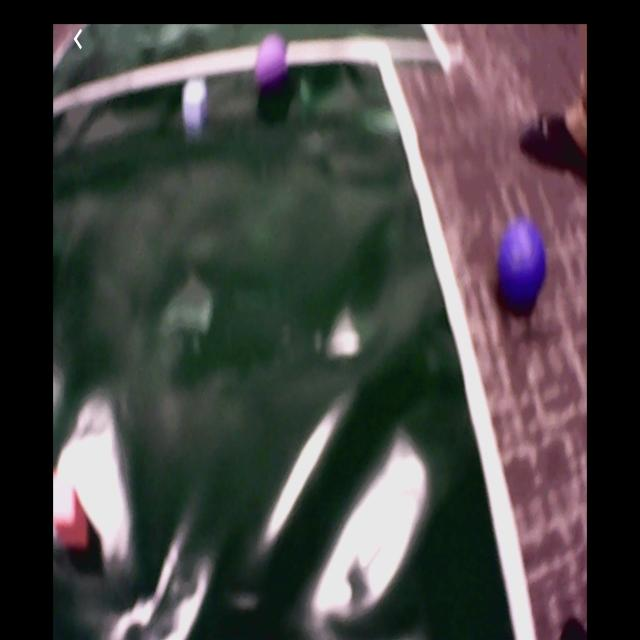ball: (496, 222, 547, 312), (255, 37, 288, 89)
